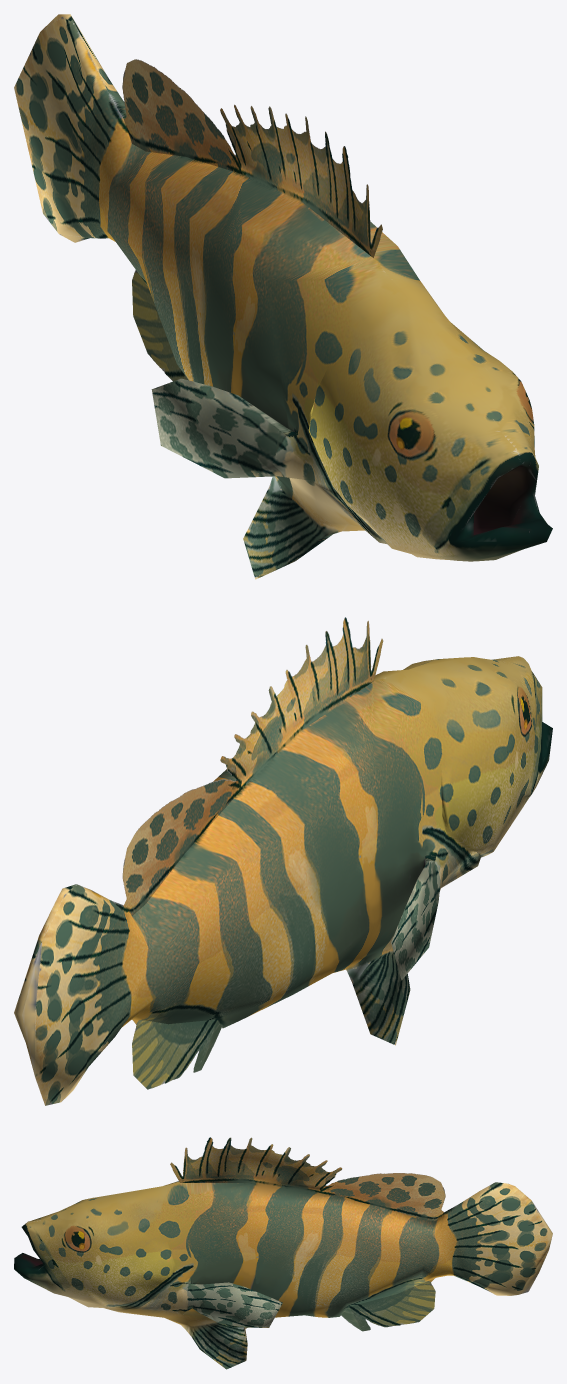
Rendered from MeroParticle.fbx.
3 views of the same model, one above another, from view 1: azimuth 30°, elevation 25°; view 2: azimuth 150°, elevation 25°; view 3: azimuth 270°, elevation 25° (orthographic). The views are drawn at different scales.
Visible parts, largest first — view 1: MeroParticle.001; view 2: MeroParticle.001; view 3: MeroParticle.001.
Part boxes in pixels (x1,y1,x2,y2): MeroParticle.001: [14, 14, 552, 579]; MeroParticle.001: [14, 617, 552, 1105]; MeroParticle.001: [14, 1137, 552, 1369].
Size of the model in its own units: 11.35 by 18.9 by 41.6.
